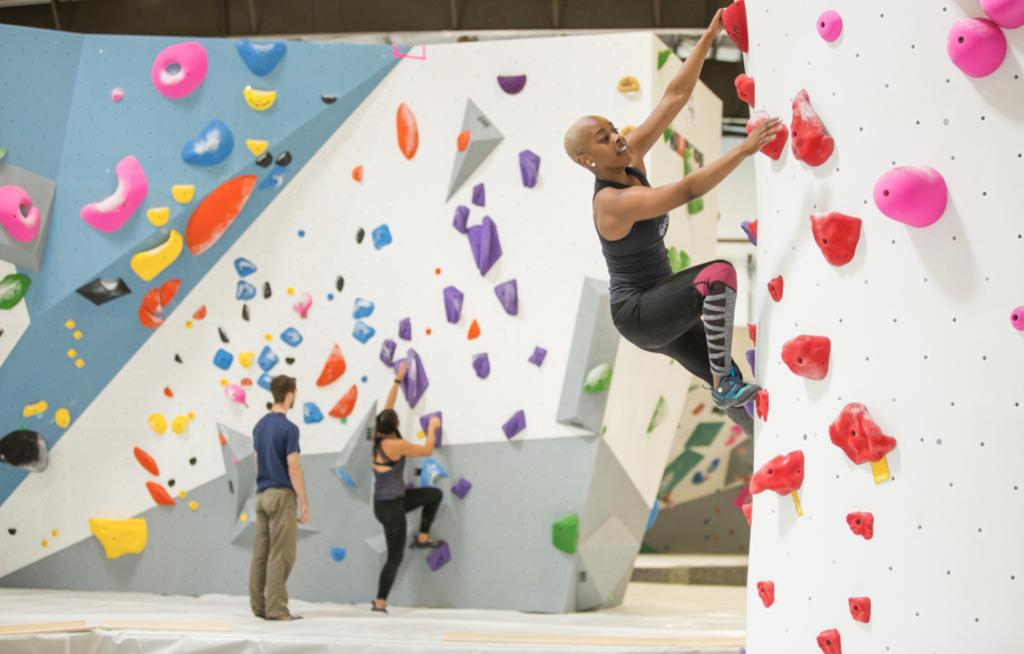black-hold: (171, 158, 264, 263), (76, 150, 162, 243), (865, 151, 957, 236), (819, 395, 901, 477), (767, 87, 842, 175), (144, 38, 215, 104), (176, 114, 244, 181), (125, 223, 193, 286), (802, 206, 864, 270), (946, 18, 1006, 78), (738, 105, 797, 162), (388, 346, 436, 412), (463, 213, 510, 280), (749, 448, 805, 498), (87, 517, 148, 561), (74, 268, 133, 313), (779, 332, 832, 382), (0, 184, 41, 243), (0, 428, 51, 474), (233, 38, 289, 79), (315, 338, 353, 394), (325, 382, 369, 427), (719, 0, 751, 56), (810, 5, 850, 46), (395, 101, 420, 161), (143, 474, 177, 515), (978, 0, 1024, 30), (128, 443, 165, 480), (255, 162, 292, 199), (644, 396, 674, 439), (498, 407, 534, 442), (417, 457, 451, 493), (0, 273, 32, 311), (552, 511, 579, 555), (422, 541, 458, 574), (152, 272, 183, 310), (518, 148, 545, 190), (240, 85, 278, 114), (493, 279, 521, 318), (131, 304, 165, 336), (583, 360, 613, 396), (251, 343, 283, 375), (843, 510, 875, 541), (442, 285, 465, 325), (366, 221, 396, 251), (228, 254, 259, 283), (733, 72, 756, 111), (420, 411, 443, 449), (348, 318, 378, 347), (144, 408, 172, 438), (754, 578, 780, 610), (290, 288, 317, 318), (278, 324, 306, 352), (469, 351, 494, 382), (816, 627, 843, 654), (221, 381, 250, 406), (847, 596, 872, 625), (497, 74, 528, 96), (351, 296, 376, 323), (739, 218, 760, 250), (650, 43, 673, 72), (377, 337, 398, 368), (211, 347, 236, 373), (449, 475, 474, 501), (331, 466, 358, 489), (451, 204, 471, 235), (19, 398, 49, 418), (766, 273, 786, 303), (234, 279, 258, 303), (526, 344, 550, 368), (168, 412, 191, 437), (234, 346, 257, 371), (142, 286, 162, 314), (146, 206, 171, 228), (754, 388, 770, 422), (303, 401, 325, 425), (615, 74, 641, 94), (254, 148, 276, 171), (191, 303, 213, 325), (171, 185, 196, 204), (466, 317, 484, 343), (245, 138, 269, 157), (53, 407, 73, 429), (1009, 306, 1024, 331), (398, 316, 412, 342), (472, 182, 486, 208), (256, 372, 275, 391), (327, 545, 347, 563), (214, 326, 231, 346), (740, 500, 753, 526), (745, 349, 756, 379), (456, 129, 470, 152), (109, 86, 125, 103), (275, 151, 292, 167), (352, 227, 367, 245), (747, 322, 757, 347), (320, 94, 338, 106), (743, 401, 754, 420), (748, 217, 757, 240), (351, 165, 363, 182), (334, 275, 345, 293), (161, 386, 174, 400), (241, 304, 251, 322), (64, 318, 77, 331), (72, 329, 85, 341), (264, 282, 272, 300), (66, 348, 78, 360), (173, 353, 184, 366), (40, 538, 51, 549), (186, 410, 197, 421), (177, 488, 188, 499), (241, 377, 253, 387), (50, 528, 61, 538), (219, 378, 230, 388), (238, 513, 248, 523), (326, 292, 336, 302), (8, 528, 18, 537), (189, 500, 198, 510), (75, 359, 85, 368), (184, 320, 194, 329), (189, 456, 197, 467), (286, 287, 295, 296), (434, 267, 442, 276), (264, 333, 273, 341), (297, 230, 306, 238), (286, 358, 296, 365), (168, 478, 175, 487), (424, 328, 431, 335), (361, 376, 368, 382)
